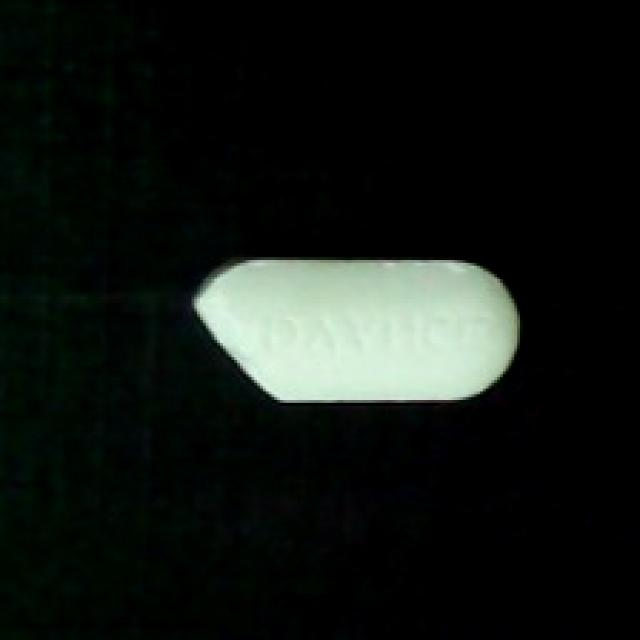defected: (183, 254, 523, 411)
